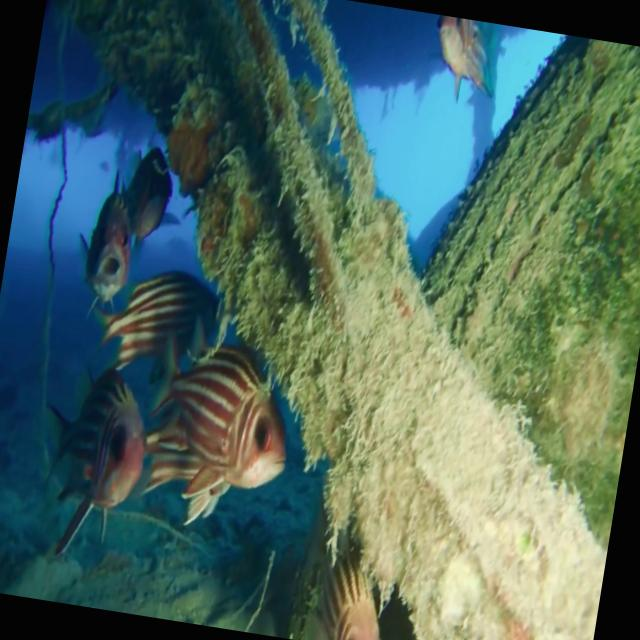Asker Baligi: (138, 330, 304, 515), (30, 356, 166, 544), (78, 167, 148, 340), (105, 262, 222, 362)
